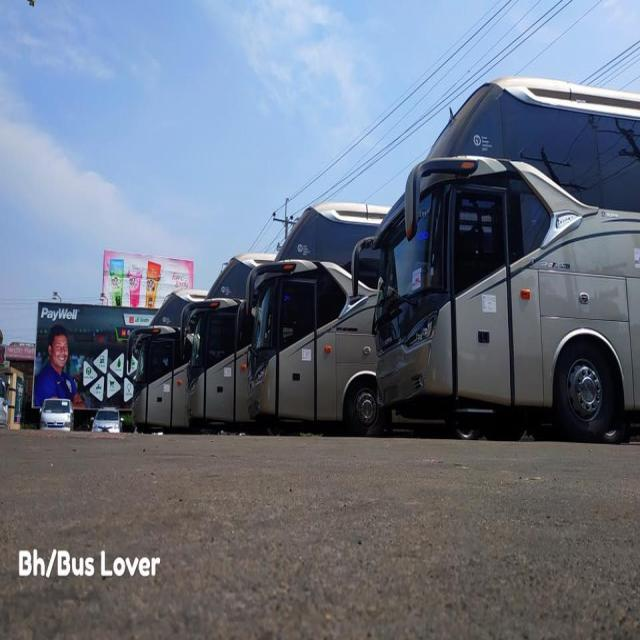bus: (350, 72, 639, 445)
